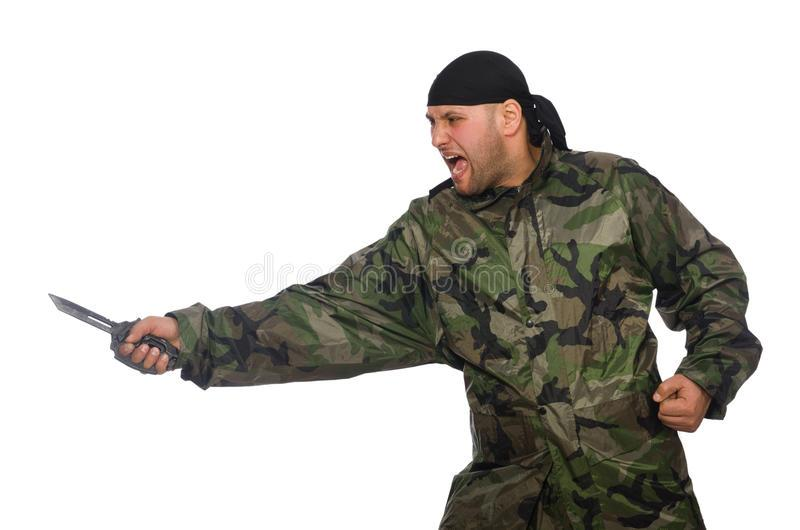criminal: (45, 47, 762, 530)
weapon: (46, 291, 183, 377)
